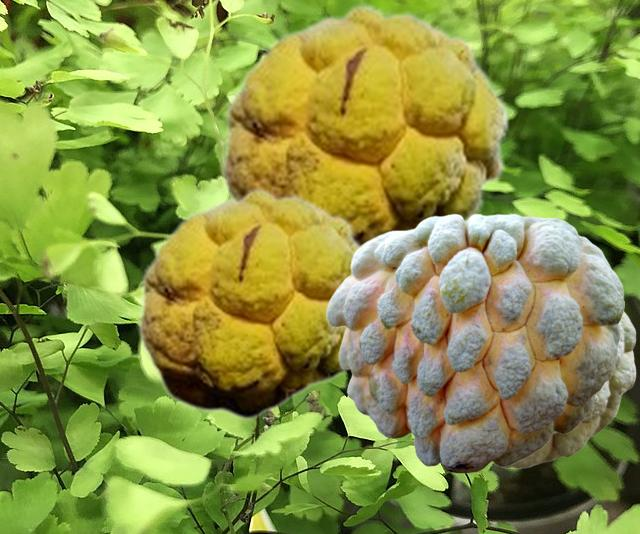atis: (326, 213, 623, 472), (219, 3, 509, 242), (136, 187, 361, 419), (497, 311, 635, 467)
